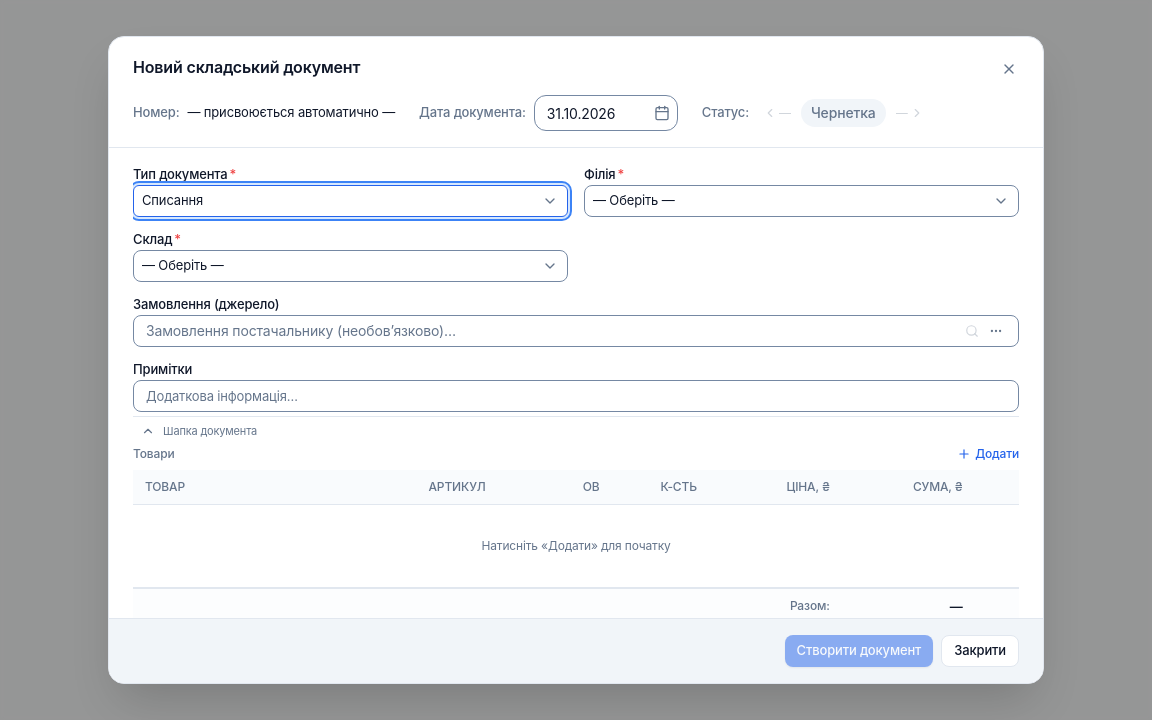
Test: StockDocumentCreateModal — шари над карткою й Escape (Bug #931, #932) › Escape у вікні вибору замовлення закриває лише його
Click the button named "Обрати": (996, 331) [986,321,1006,341]
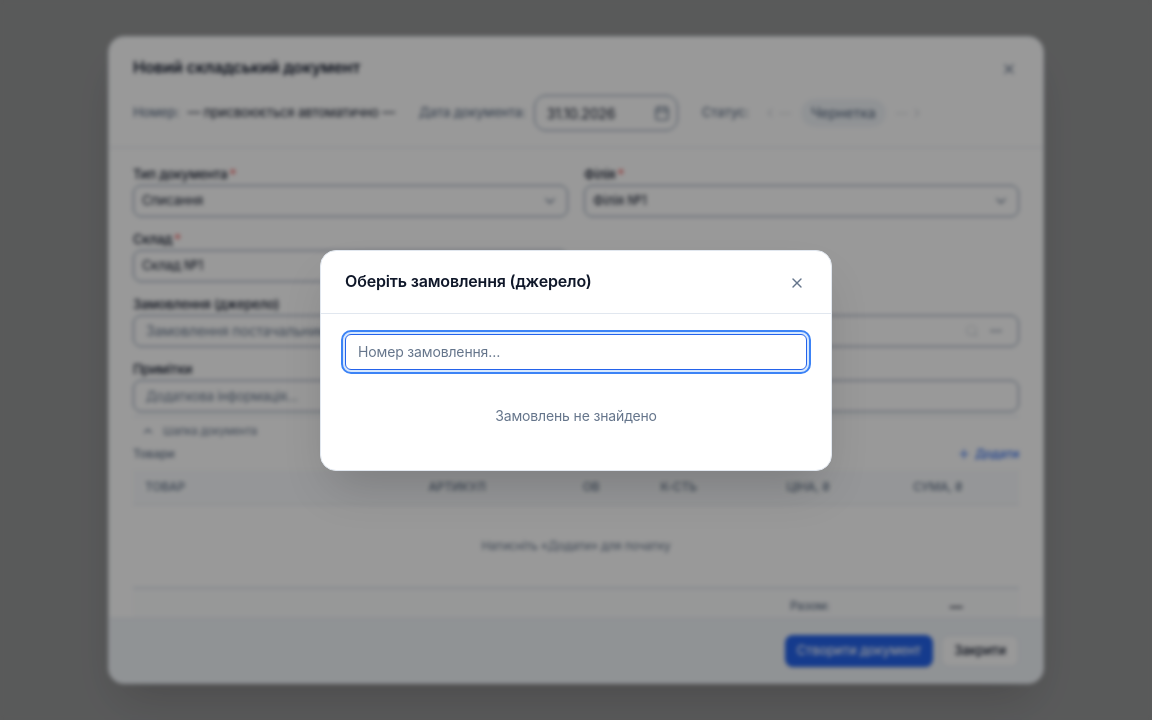
Now the dialog "Оберіть замовлення (джерело) Замовлень не знайдено" is shown
Press Escape
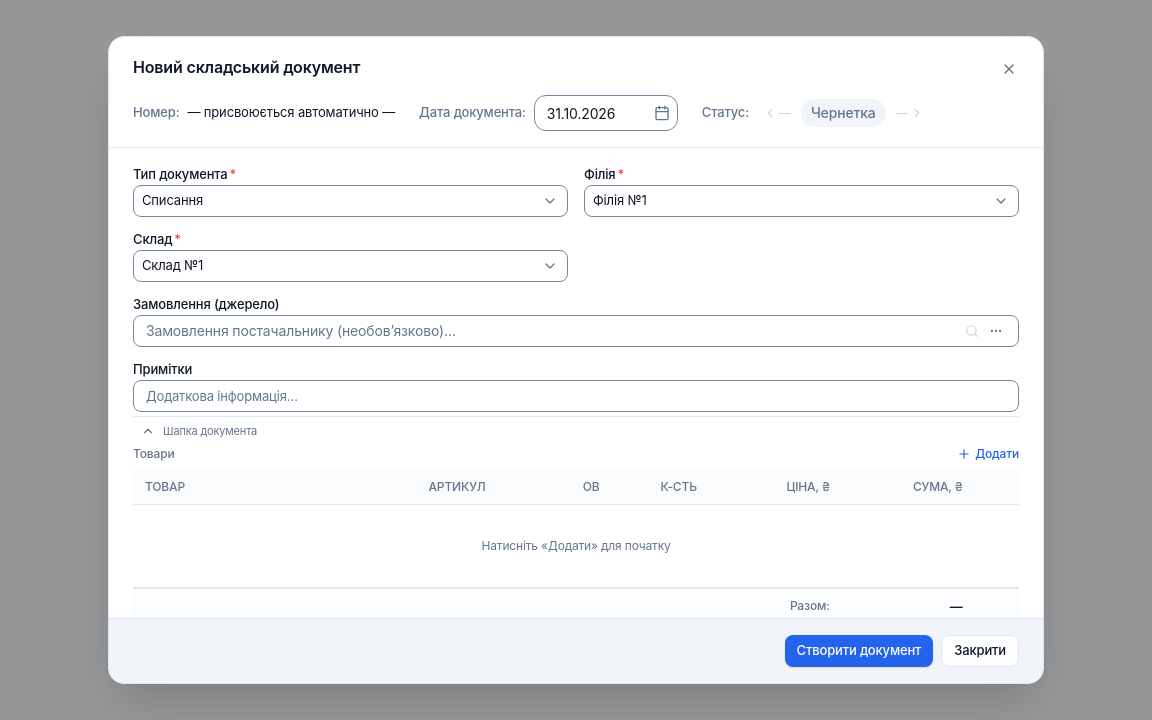
Now the heading "Оберіть замовлення" is gone
